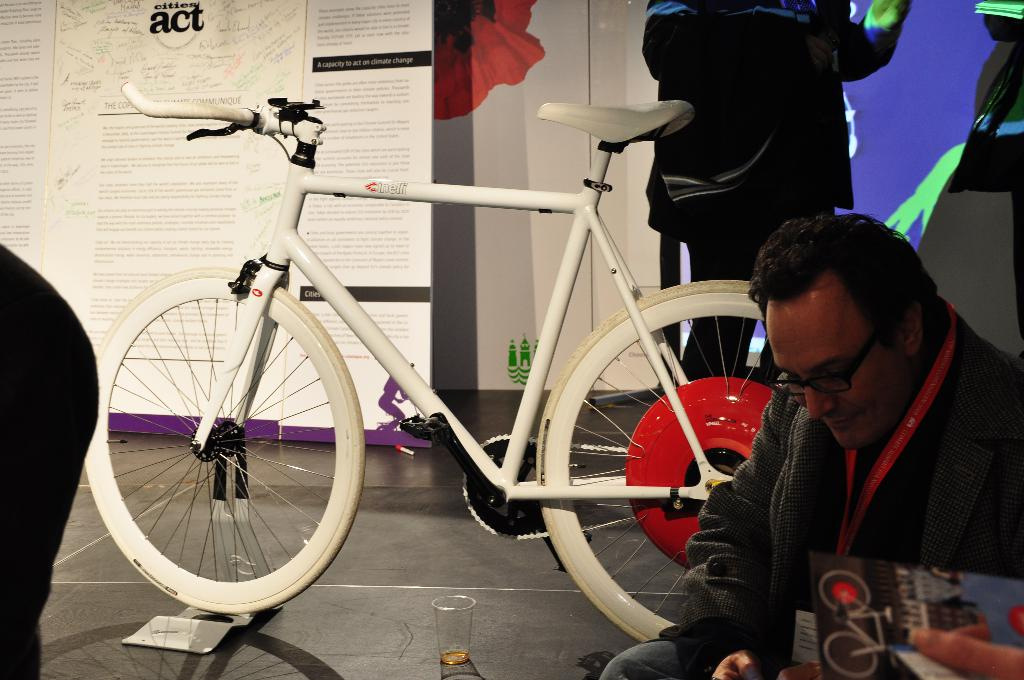Bike: (93, 73, 773, 586)
